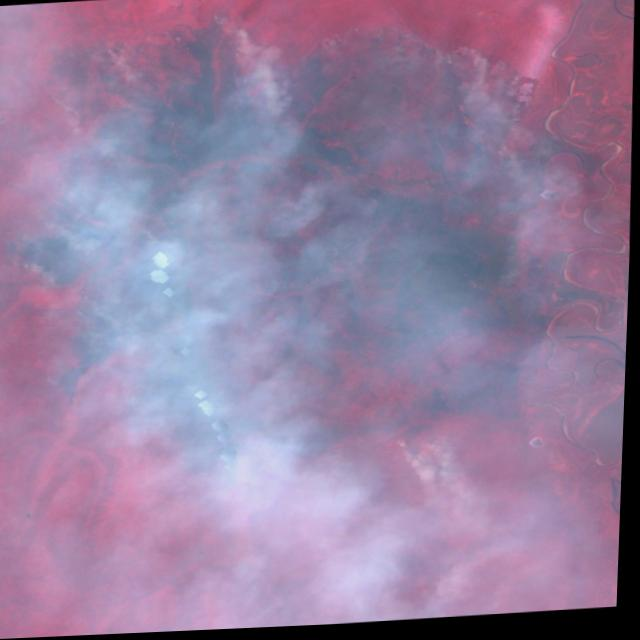fire: (0, 0, 547, 388), (236, 410, 456, 491)
